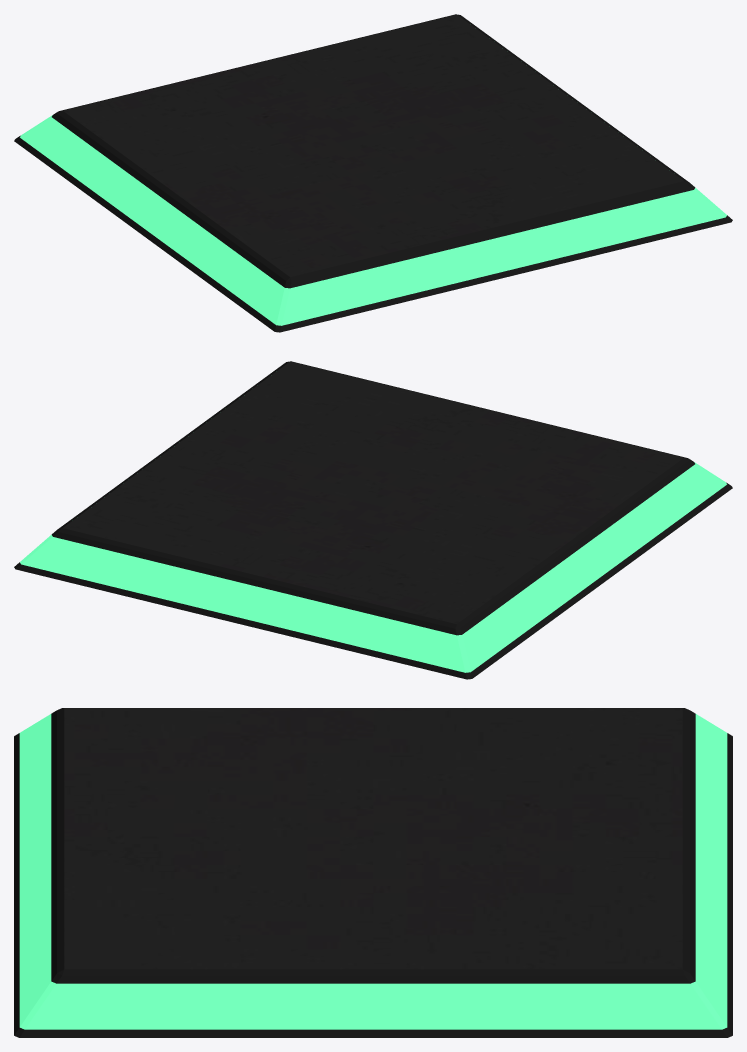
Rendered from jb2asquare1.glb.
3 views of the same model, one above another, from view 1: azimuth 30°, elevation 25°; view 2: azimuth 150°, elevation 25°; view 3: azimuth 270°, elevation 25° (orthographic). The views are drawn at different scales.
Parts seen in each view (by area): view 1: base; view 2: base; view 3: base.
Boxes of the visible parts, bbox=[...] form: base: bbox=[14, 14, 732, 332]; base: bbox=[14, 361, 732, 679]; base: bbox=[14, 708, 732, 1037].
Size of the model in its own units: 2 by 0.1452 by 2.
Materials: 3 (1 with a texture image).
